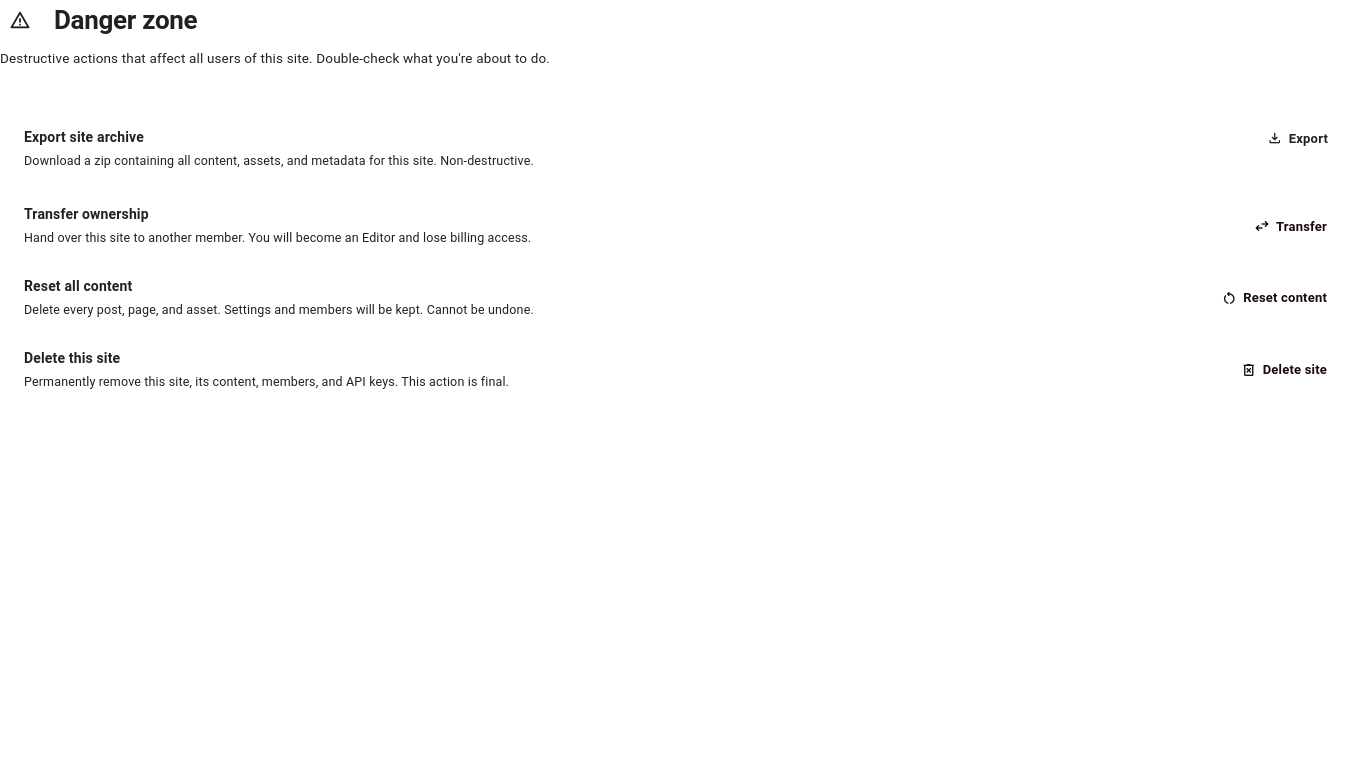
it: DangerZonePage — Transfer Ownership › edge: a 422 from the backend surfaces the not-a-member message
The image size is (1366, 768).
Click the button with test id "site-settings.danger.action.transferOwnership".
click(1290, 226)  # box [1239,210,1342,242]
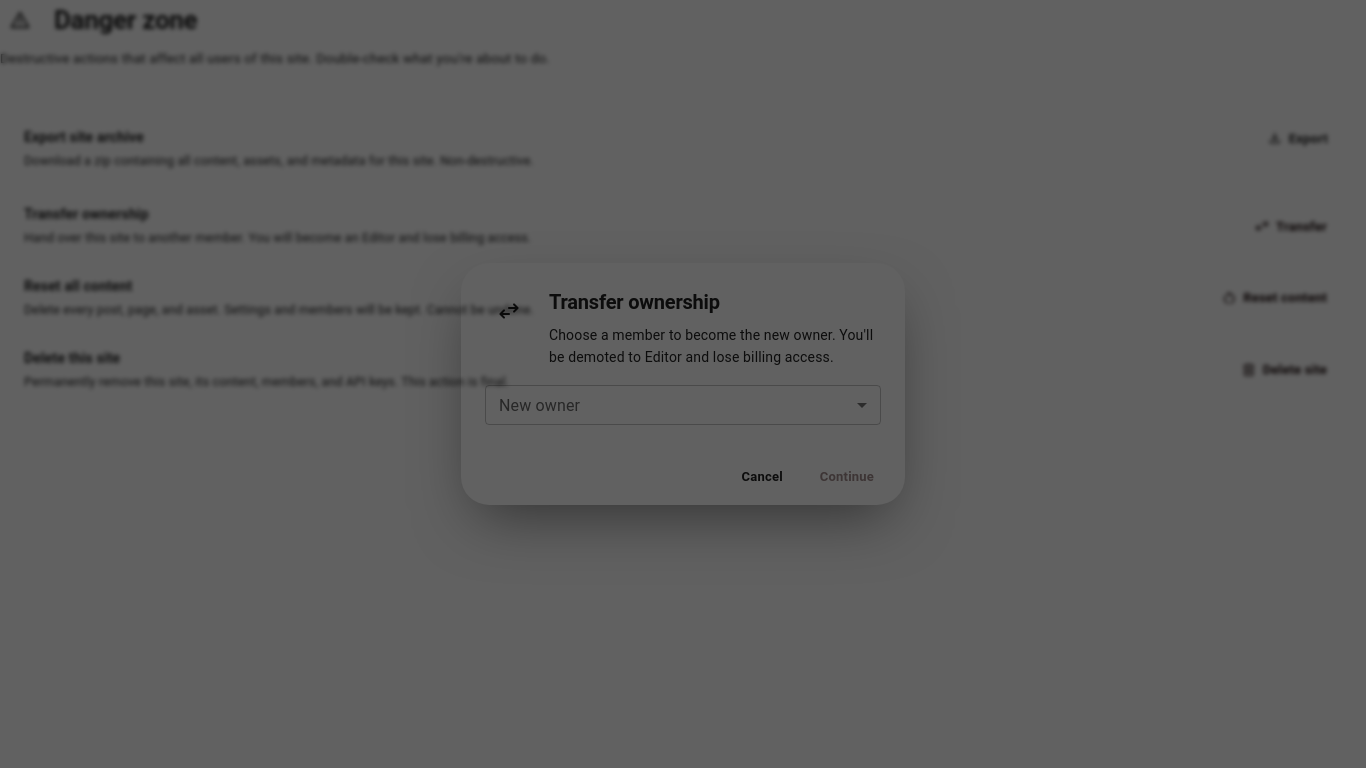
Check: the element with test id "transfer-ownership.picker" is shown
Click the dropdown.
click(683, 405)  # box [485,385,881,425]
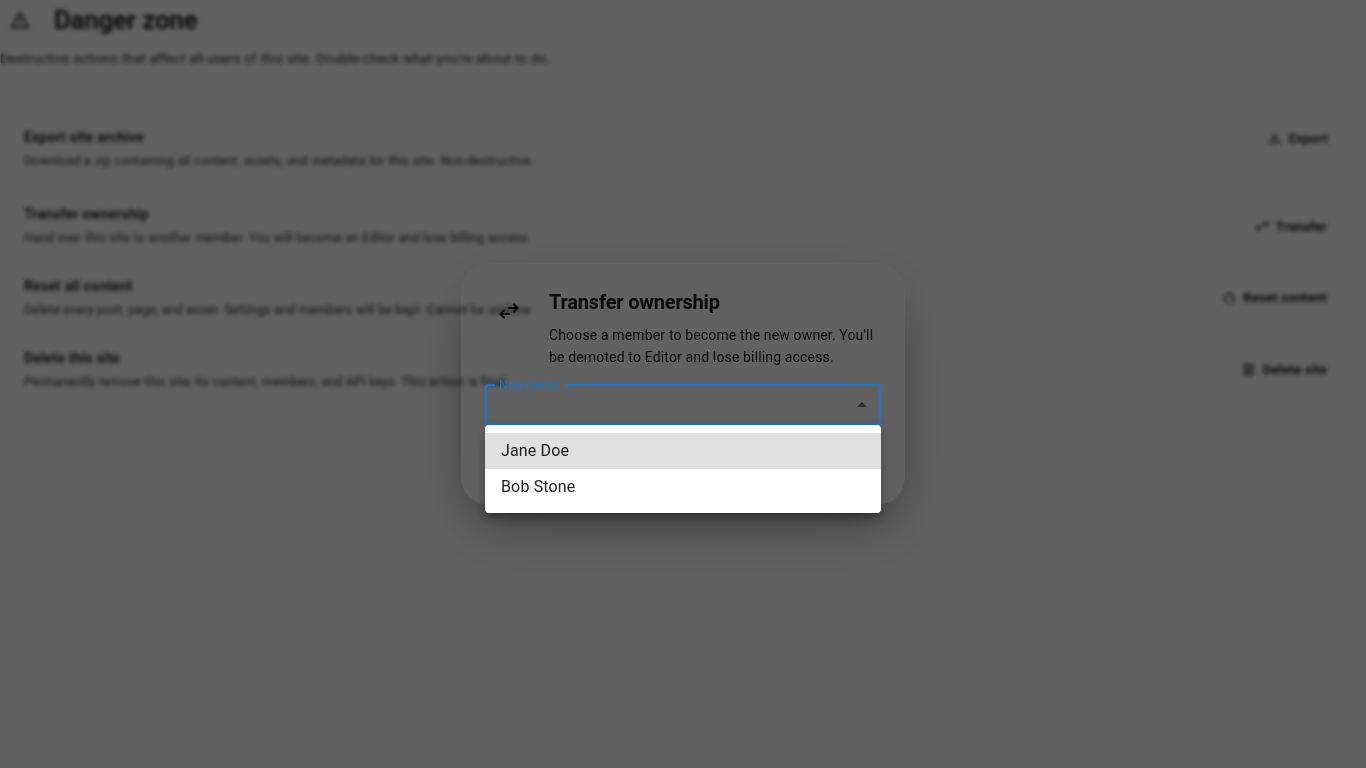
Click the option "Jane Doe".
click(535, 450)  # box [485,433,881,469]
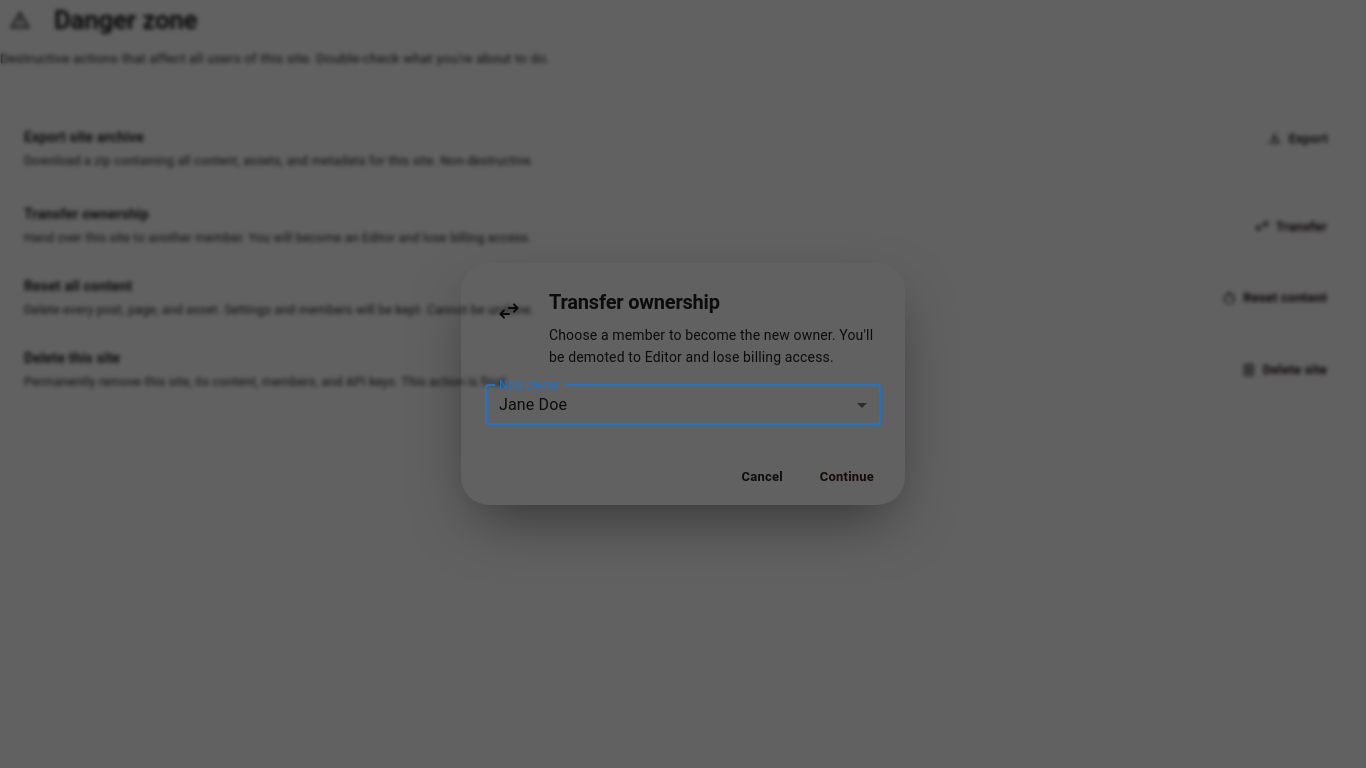
Click the button with test id "transfer-ownership.continue".
click(847, 477)  # box [805,461,889,493]
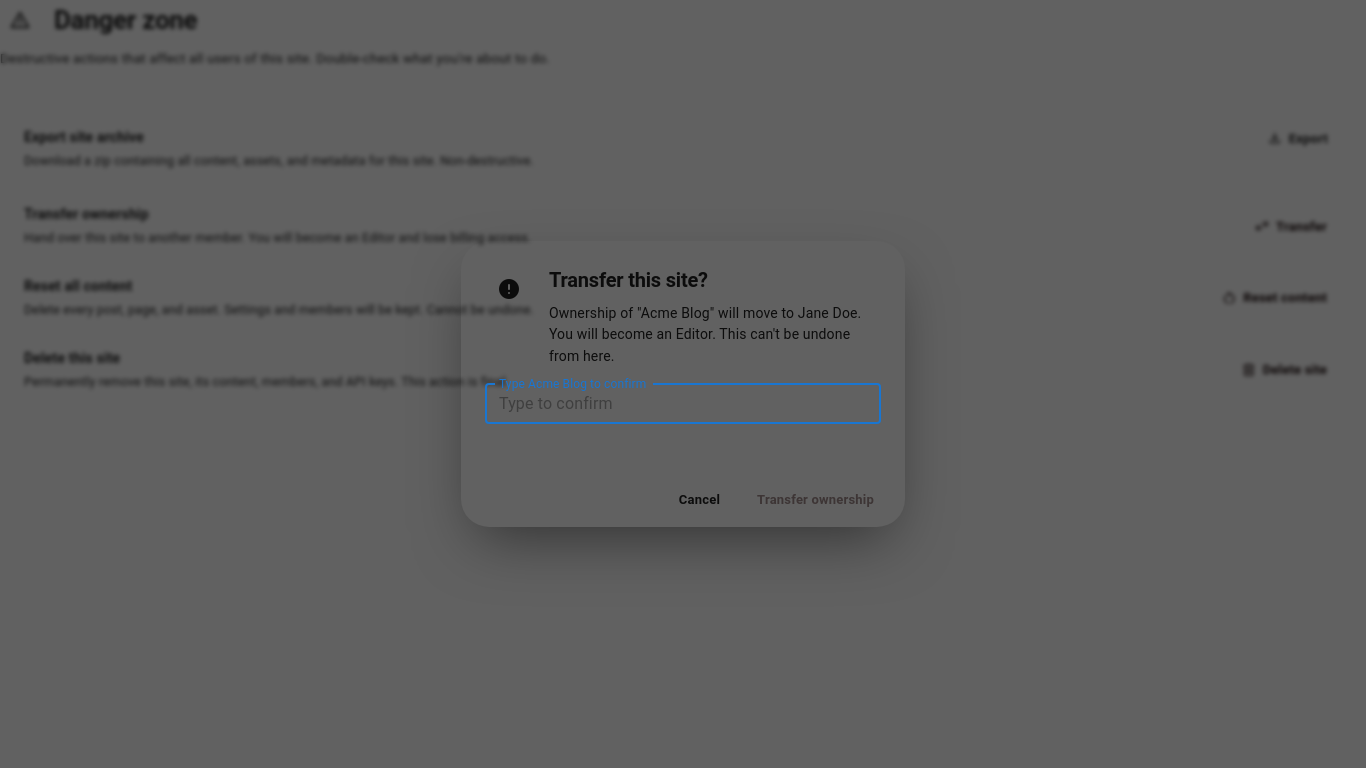
Type "Acme Blog" into the field with test id "danger-confirm-dialog.input".
click(683, 404); type("Acme Blog")  # box [485,384,881,424]
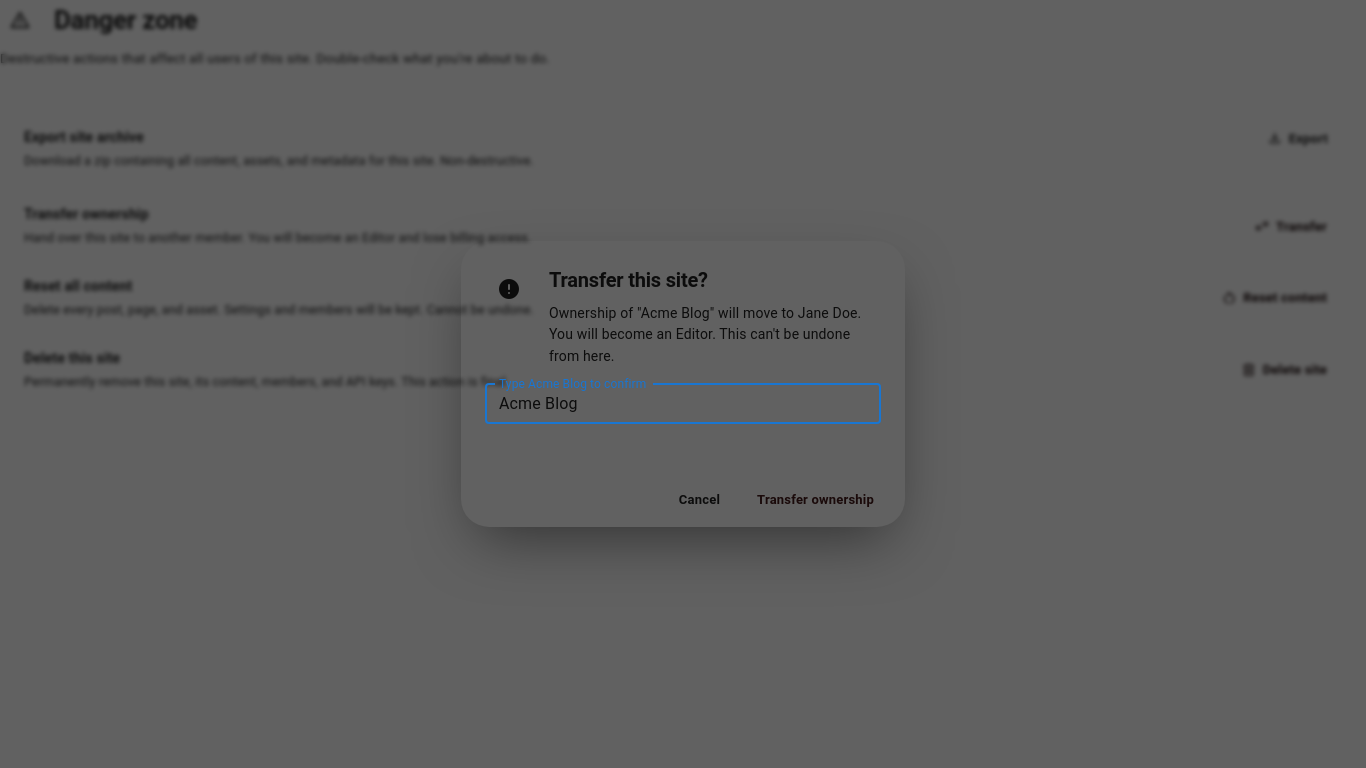
Click the button with test id "danger-confirm-dialog.confirm".
click(816, 500)  # box [742,484,889,516]
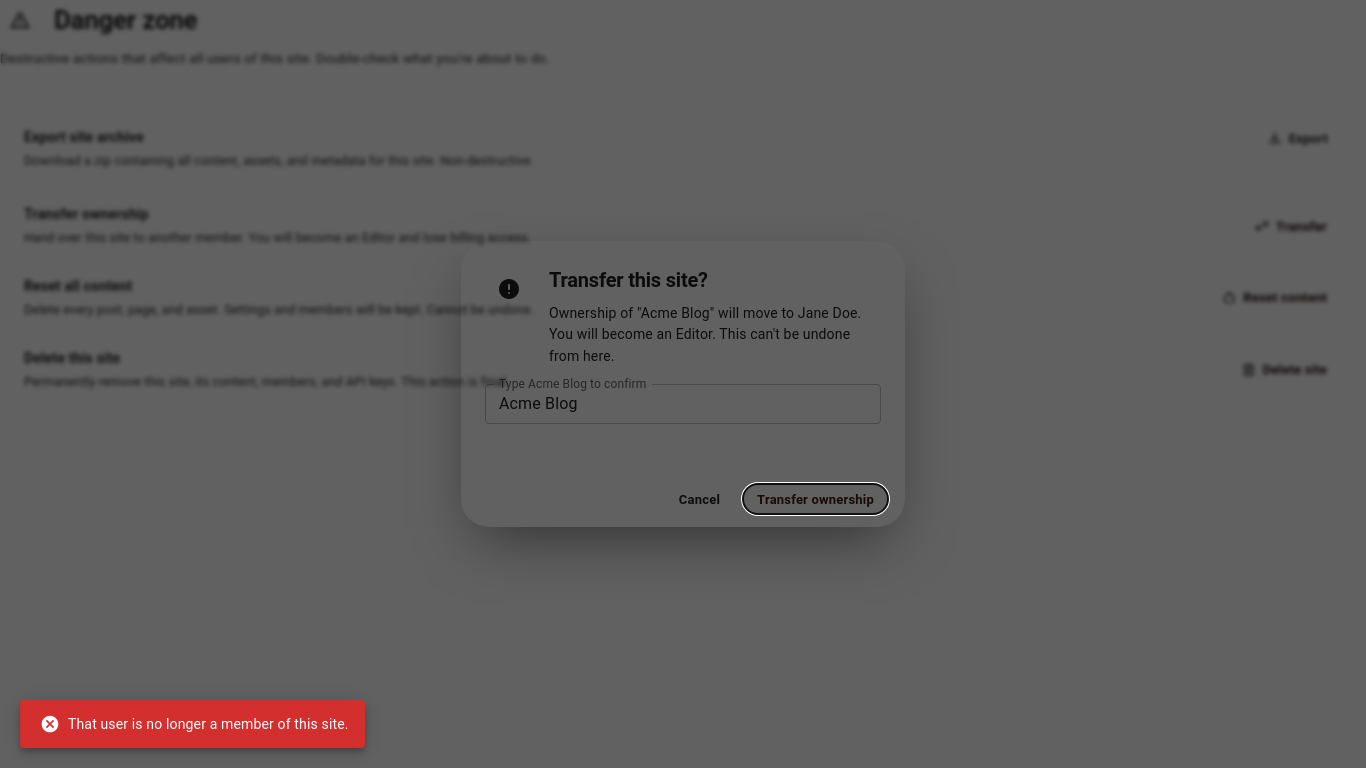
Check: the text "That user is no longer a member of this site." is shown, box [40,714,349,734]
